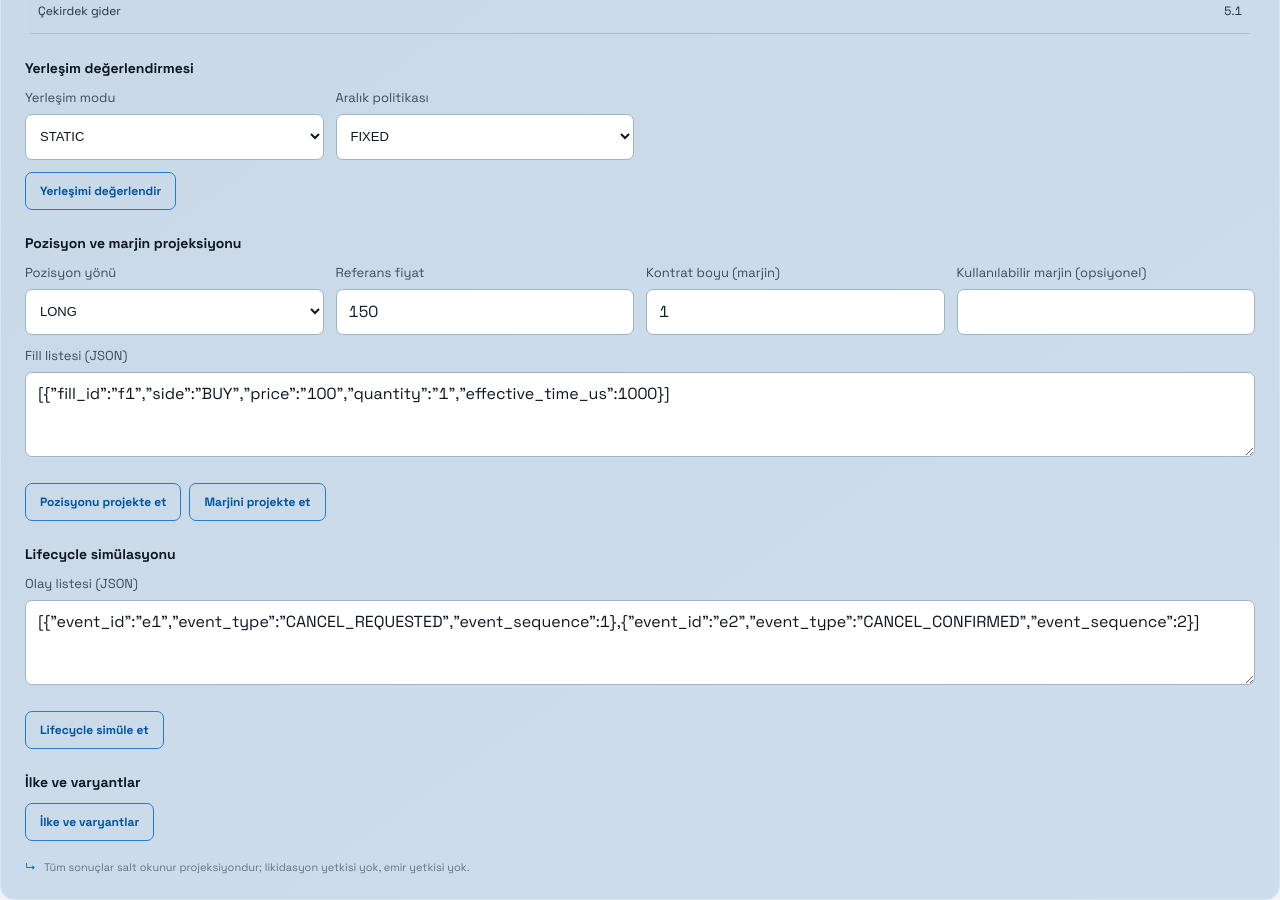
FuturesPanel grid bot akışı (Faz 12.3) › lifecycle simülasyonu olay listesinden alınır
The image size is (1280, 900).
(page scrolled)
Click the button "Lifecycle simüle et" at (94, 730), box top-left (25, 711), bottom-right (164, 749)
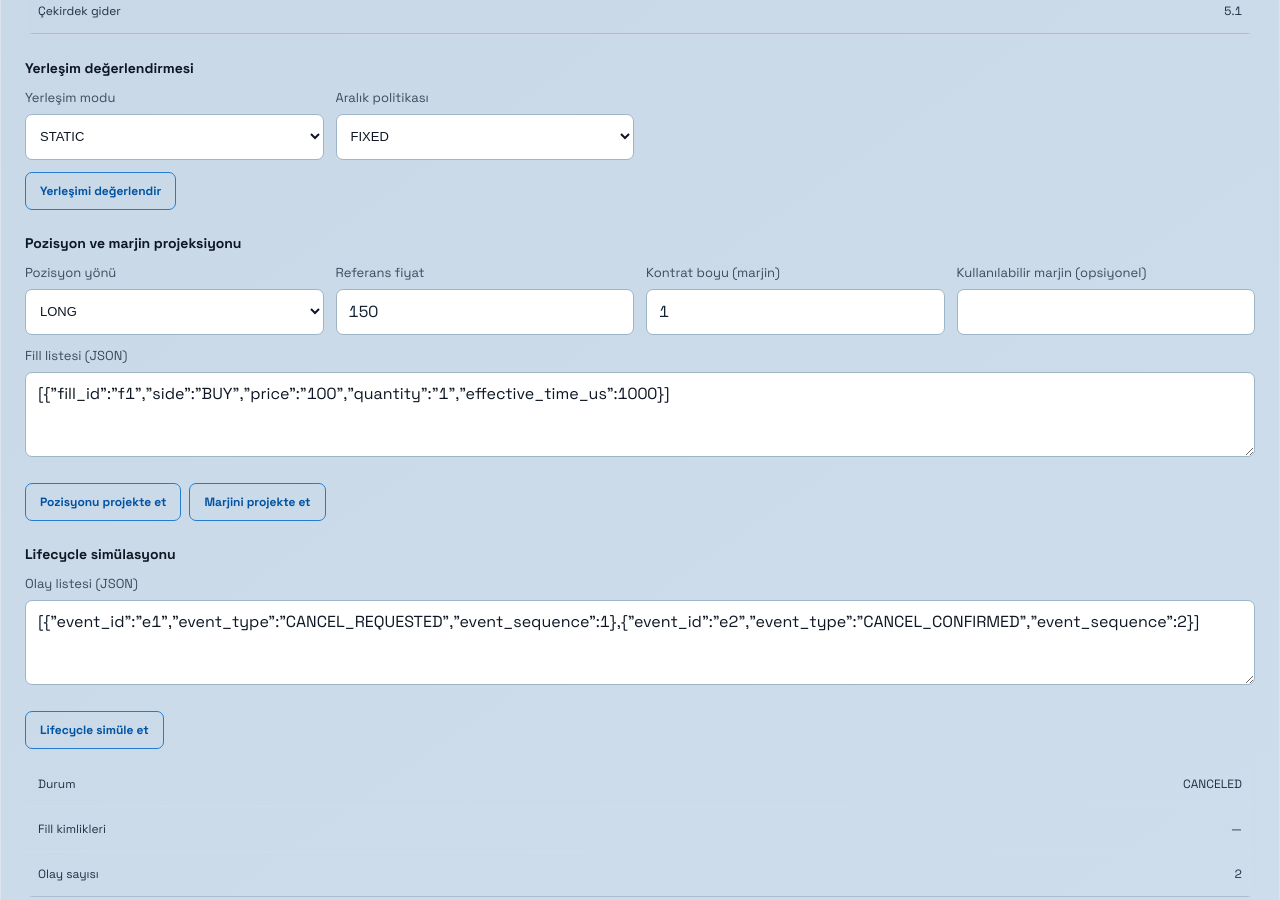
expect the text "CANCELED" is shown: met, box top-left (672, 762), bottom-right (1254, 806)
